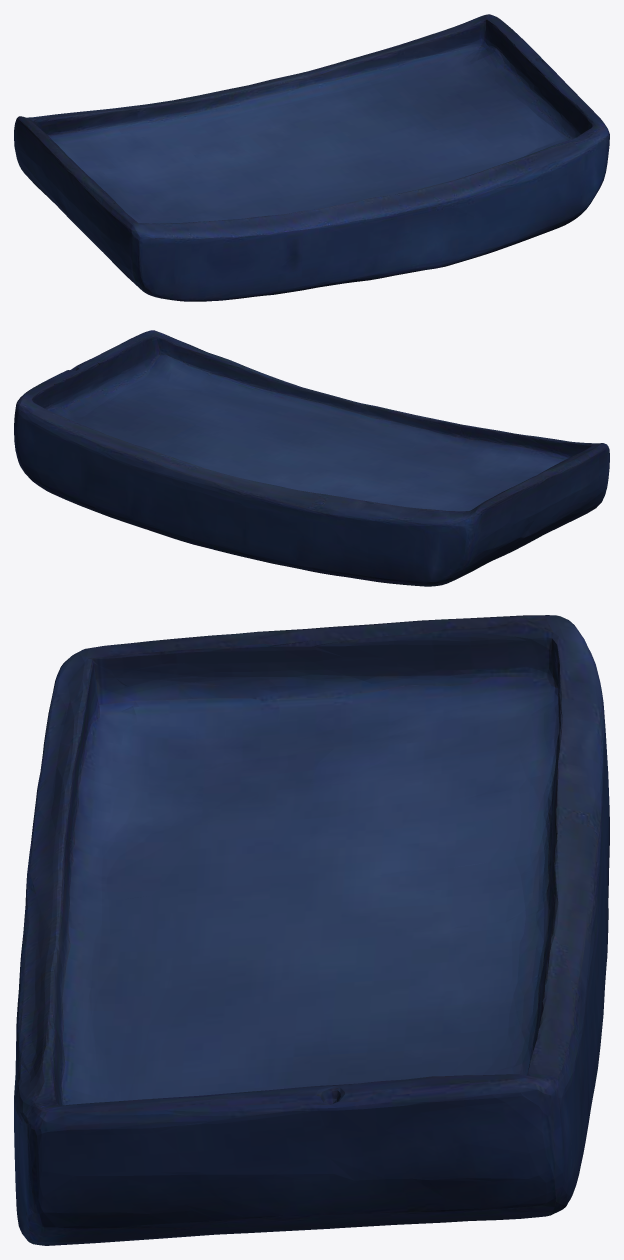
The model's file is blue_bowl_on_dresser_000.glb.
3 views of the same model, one above another, from view 1: azimuth 30°, elevation 25°; view 2: azimuth 150°, elevation 25°; view 3: azimuth 270°, elevation 25° (orthographic). The views are drawn at different scales.
Visible parts, largest first — view 1: blue_bowl_on_dresser_000.obj; view 2: blue_bowl_on_dresser_000.obj; view 3: blue_bowl_on_dresser_000.obj.
Boxes of the visible parts, x1,y1,x2,y2 form: blue_bowl_on_dresser_000.obj: [14, 14, 609, 301]; blue_bowl_on_dresser_000.obj: [14, 330, 609, 586]; blue_bowl_on_dresser_000.obj: [14, 615, 609, 1245].
Bounding box in the file's own units: 0.2 × 0.0491 × 0.1077.
Materials: 1 (1 with a texture image).
